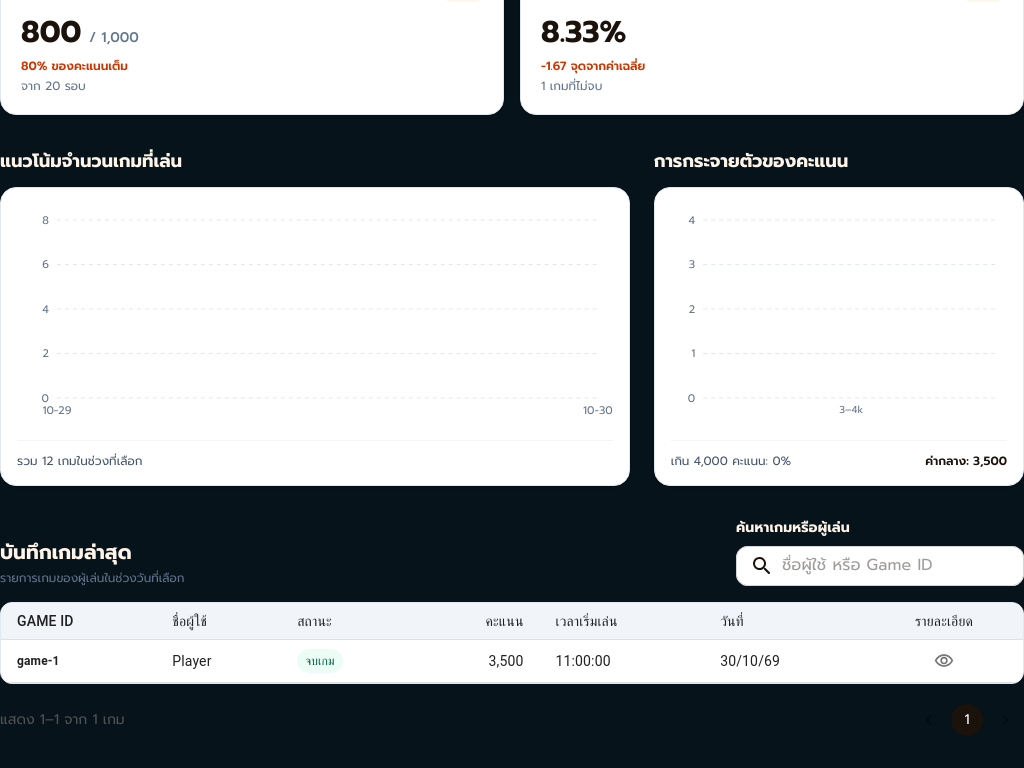
it: admin dashboard › shows the selected game's actual rounds and total in a modal
(page scrolled)
What coordinates should you click on to do the following:
click the button named "ดูรายละเอียดเกม game-1"
I would click on:
 (944, 661)
Its box is x1=929 y1=646 x2=959 y2=676.
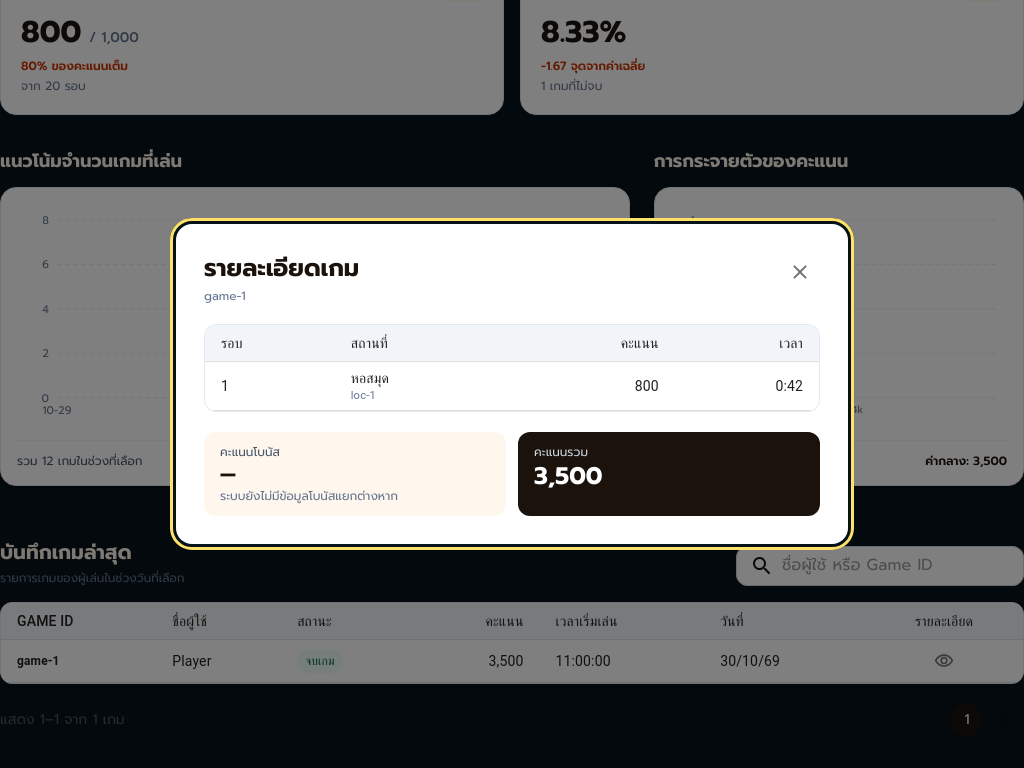
Now the table named "คะแนนแต่ละรอบ" shows "หอสมุด", box x1=351 y1=370 x2=389 y2=386
Now the dialog "รายละเอียดเกม" shows "3,500", box x1=534 y1=458 x2=602 y2=494
Now the dialog "รายละเอียดเกม" shows "ระบบยังไม่มีข้อมูลโบนัสแยกต่างหาก", box x1=220 y1=487 x2=398 y2=505
What coordinates should you click on to do the following:
click the button named "ปิดรายละเอียดเกม"
I would click on:
 (800, 272)
Its box is x1=780 y1=252 x2=820 y2=292.
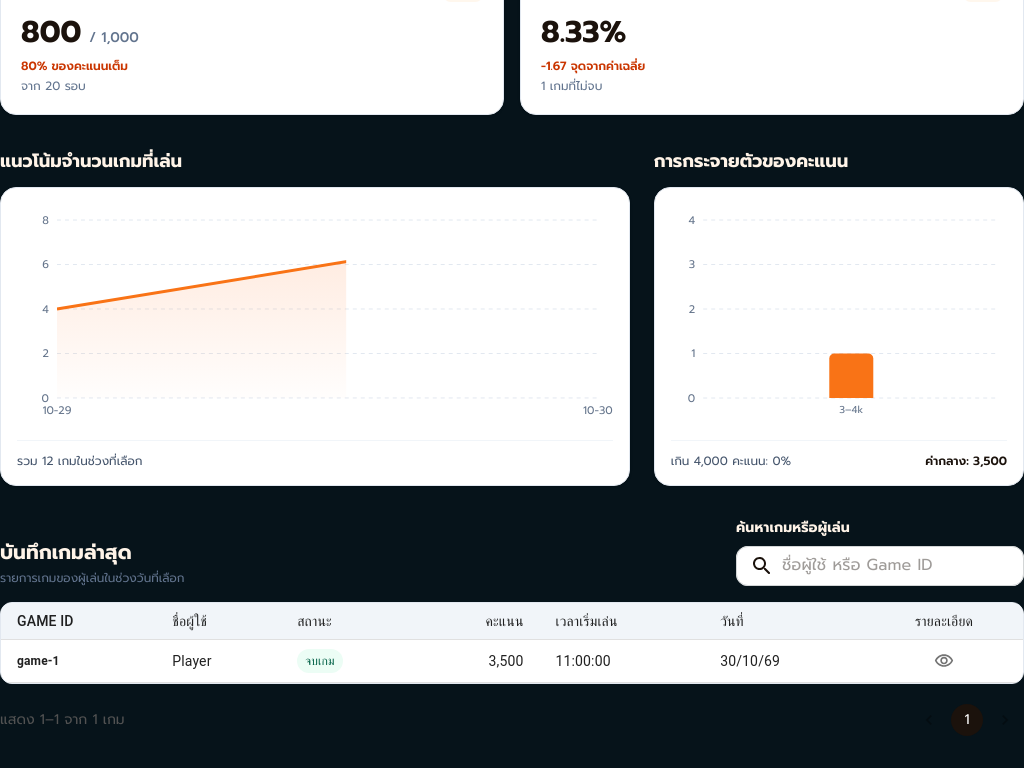
Now the heading "รายละเอียดเกม" is gone
